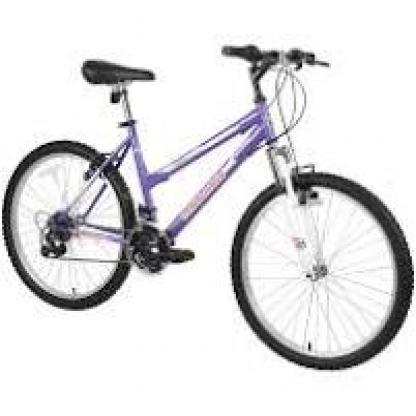Bike: (0, 39, 416, 375)
